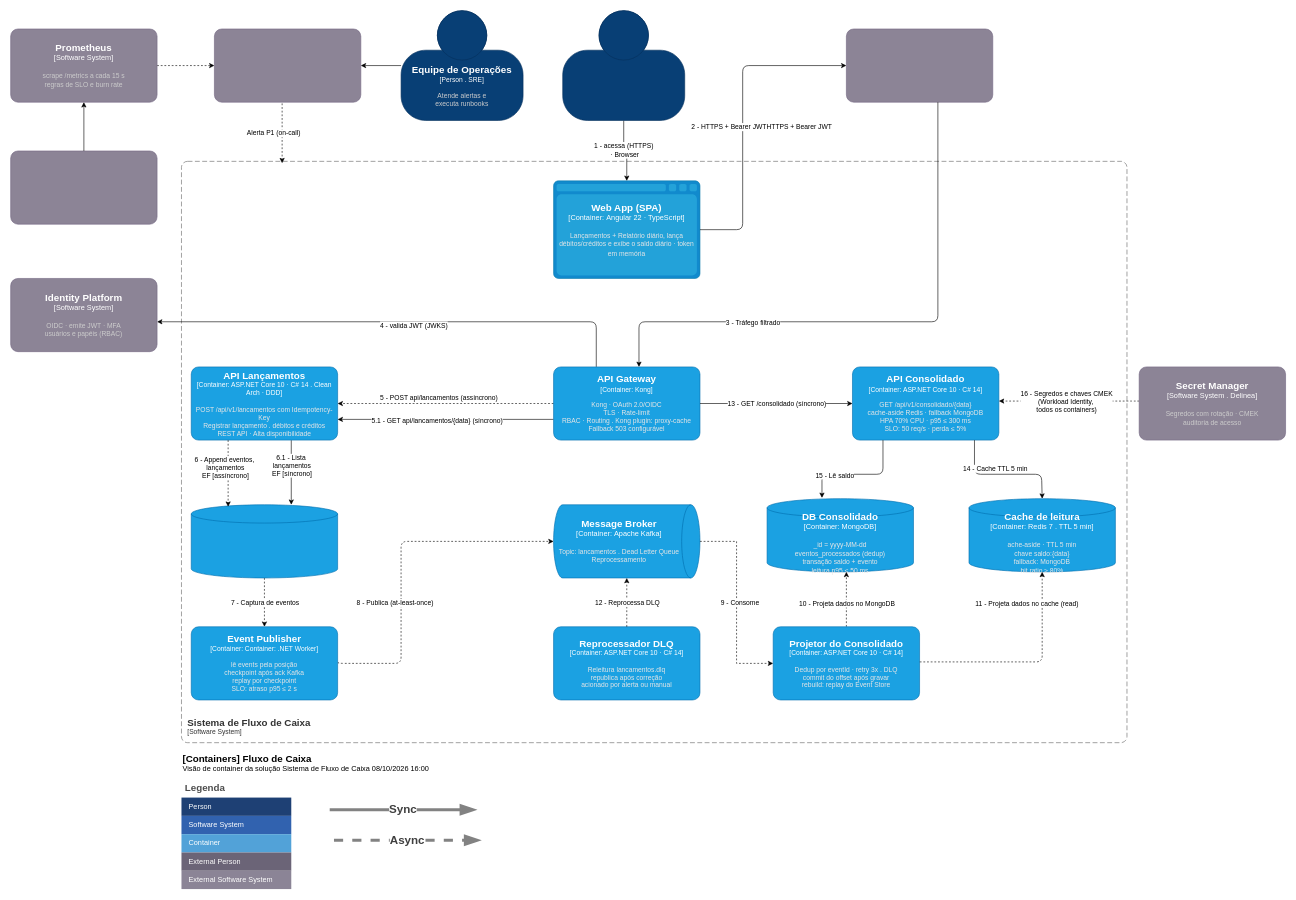
The diagram is 1296 pixels wide and 900 high, and some of its shapes have lost their labels. The centre of each missing label's shape, as x and y in pixels:
"Akamai [Software System] WAF OWASP Top 10 · anti-DDoS TLS 1.3 · allowlist geo/IP" belongs at [919,65].
"Alertmanager [Software System] P1: pager (on-call) P2: Slack / e-mail" belongs at [287,65].
"Comerciante [Person] Registra lançamentos e consulta relatório" belongs at [623,65].
"DB Lançamentos [Container: PostgreSQL] Transações ACID . Event Store" belongs at [264,541].
"Grafana [Software System] painéis RED e SLO lag Kafka e DLQ" belongs at [83,187].
